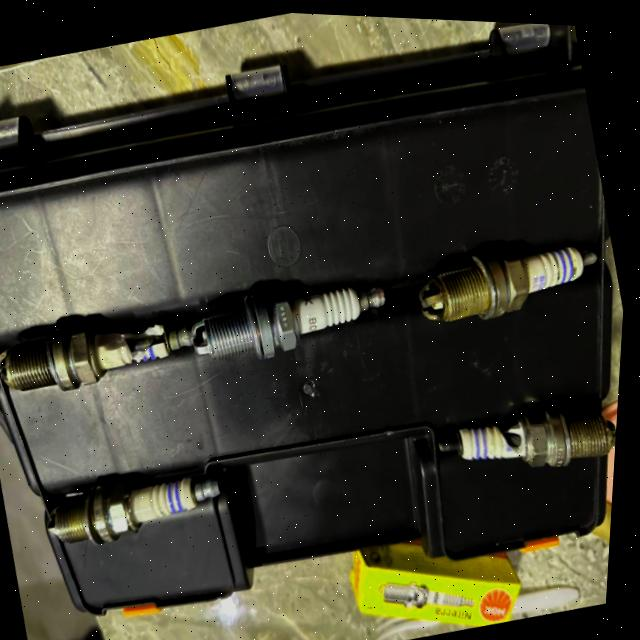damaged_spark-plug: (427, 372, 623, 499), (0, 301, 201, 417)
spark-plug: (405, 215, 617, 340), (182, 258, 408, 374), (43, 446, 240, 556)
